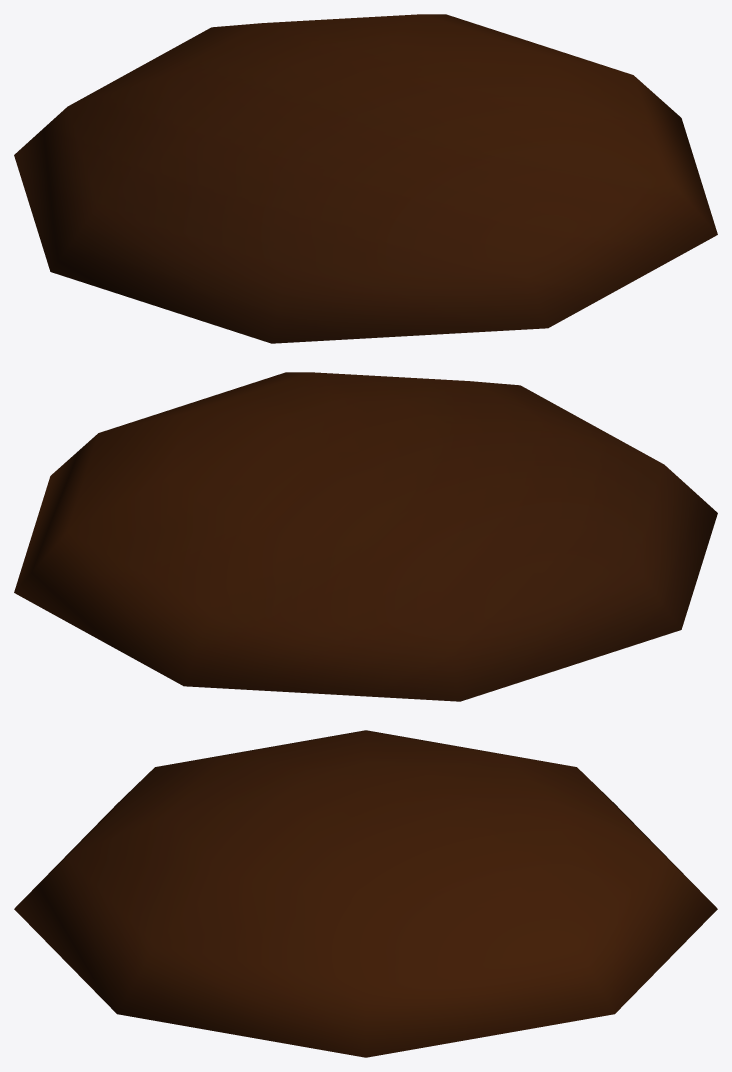
File: cookie lp.fbx
The picture shows the model from 3 angles, top to bottom: view 1: azimuth 30°, elevation 25°; view 2: azimuth 150°, elevation 25°; view 3: azimuth 270°, elevation 25°; orthographic projection. The views are drawn at different scales.
Visible parts, largest first — view 1: biscotto_lp; view 2: biscotto_lp; view 3: biscotto_lp.
Part boxes in pixels (left/top/right/bottom): biscotto_lp: left=14, top=14, right=717, bottom=343; biscotto_lp: left=14, top=372, right=717, bottom=701; biscotto_lp: left=14, top=730, right=717, bottom=1057.
Bounding box in the file's own units: 1.77 × 0.4068 × 1.77.
